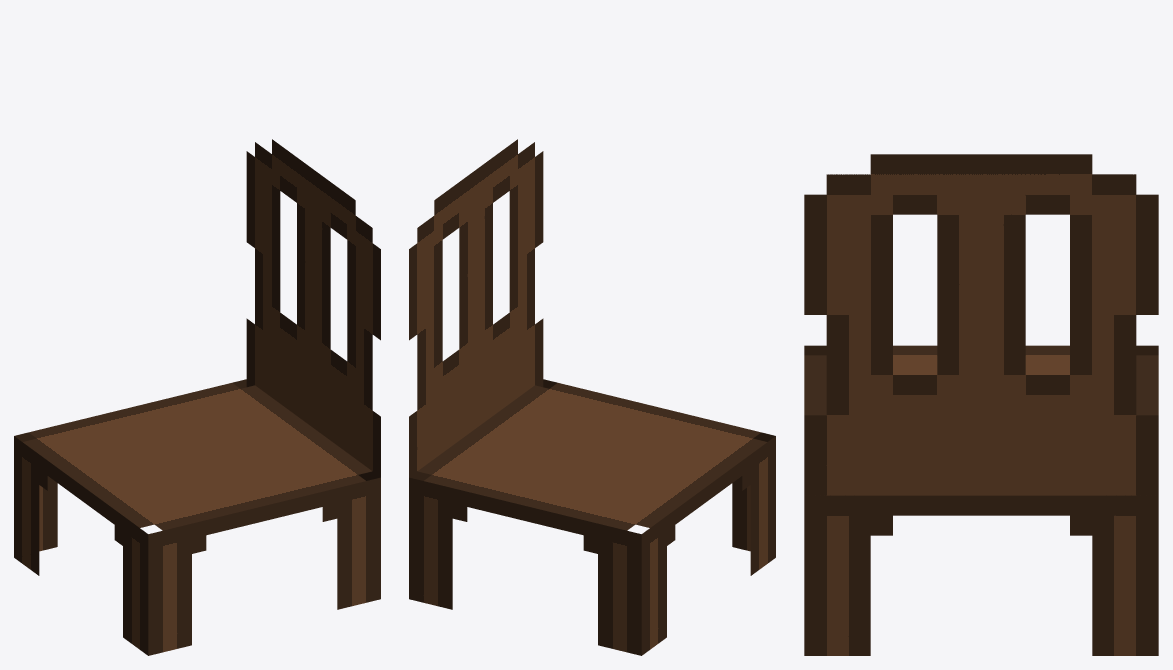
File: Scaled_Chair.gltf
The picture shows the model from 3 angles, left to right: view 1: azimuth 30°, elevation 25°; view 2: azimuth 150°, elevation 25°; view 3: azimuth 270°, elevation 25°; orthographic projection. The views are drawn at different scales.
Visible parts, largest first — view 1: Scaled Chair; view 2: Scaled Chair; view 3: Scaled Chair.
Boxes of the visible parts, x1,y1,x2,y2 form: Scaled Chair: [14, 139, 380, 655]; Scaled Chair: [409, 139, 775, 655]; Scaled Chair: [804, 154, 1158, 655].
Size of the model in its own units: 1 by 2 by 1.
Materials: 1 (1 with a texture image).
